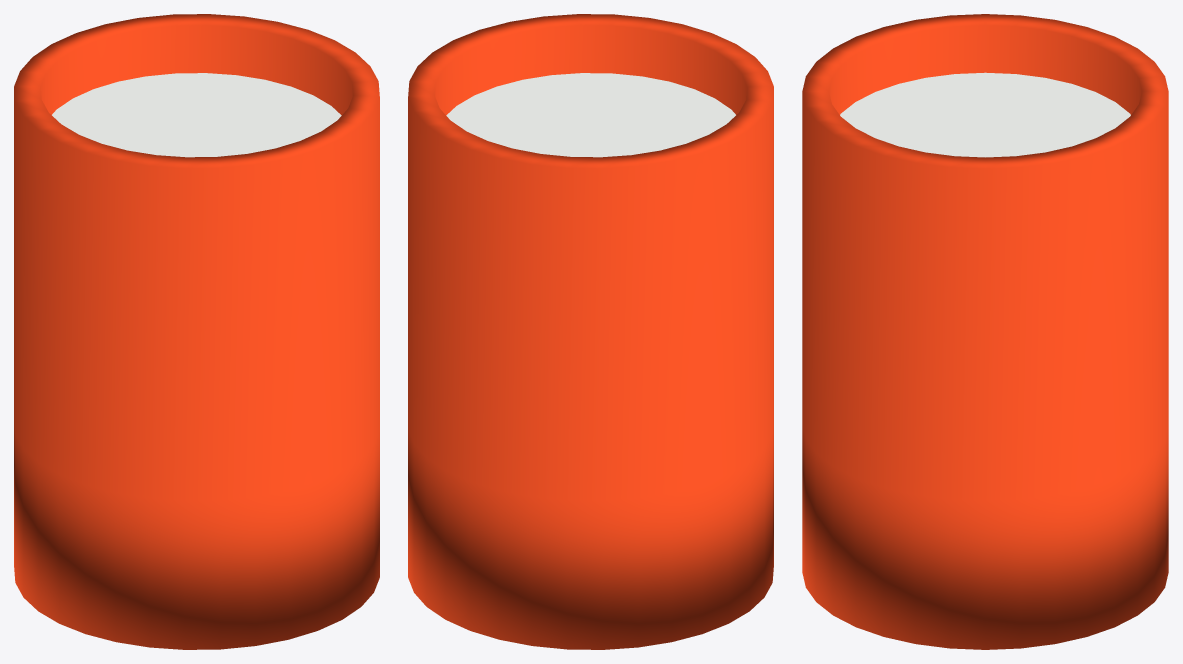
File: coffee1.fbx
3 renders of one model, left to right at view 1: azimuth 30°, elevation 25°; view 2: azimuth 150°, elevation 25°; view 3: azimuth 270°, elevation 25°, orthographic.
Visible parts, largest first — view 1: coffeecup, CafeLatte; view 2: coffeecup, CafeLatte; view 3: coffeecup, CafeLatte.
Boxes of the visible parts, box(x1,y1,x2,y2) form: coffeecup: box(14, 14, 379, 649); CafeLatte: box(52, 73, 341, 157); coffeecup: box(408, 14, 773, 649); CafeLatte: box(446, 73, 735, 157); coffeecup: box(802, 14, 1168, 649); CafeLatte: box(840, 72, 1130, 157).
Size of the model in its own units: 200 by 290 by 200.
